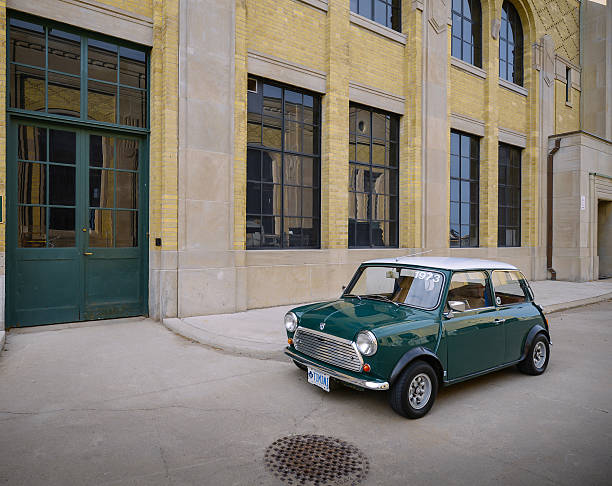licence: (300, 364, 336, 395)
